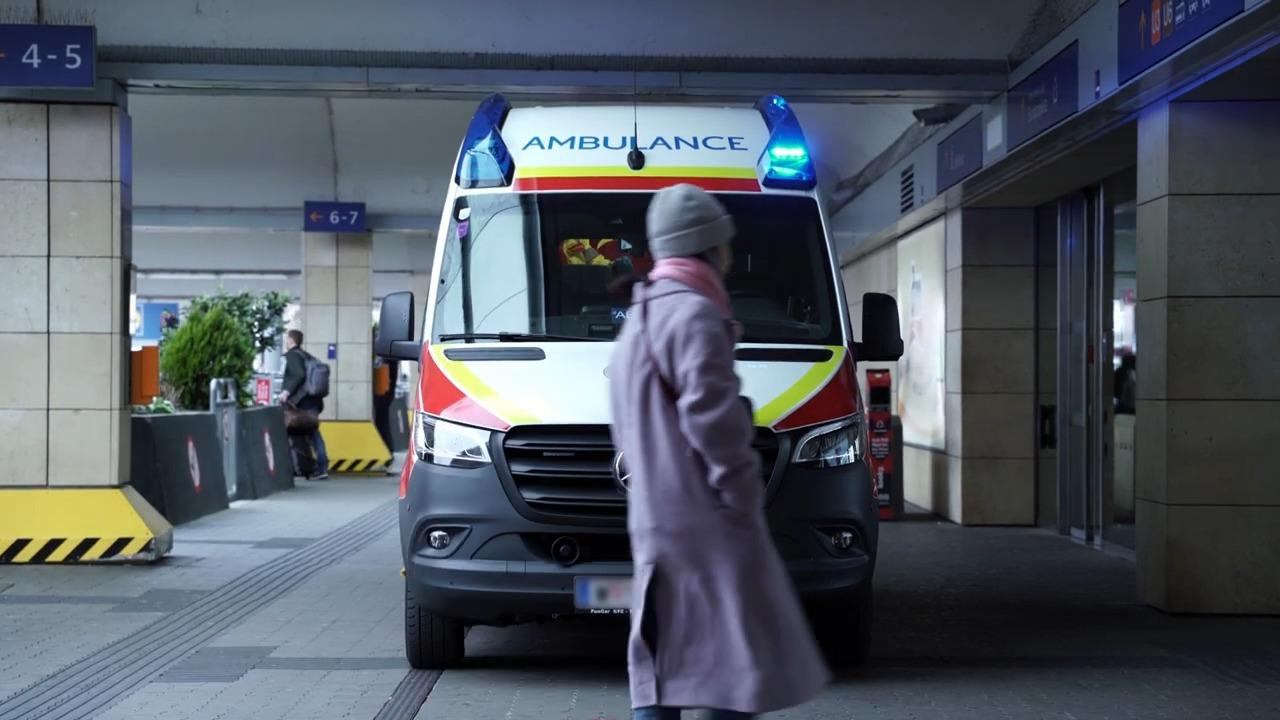car: (377, 89, 904, 671)
